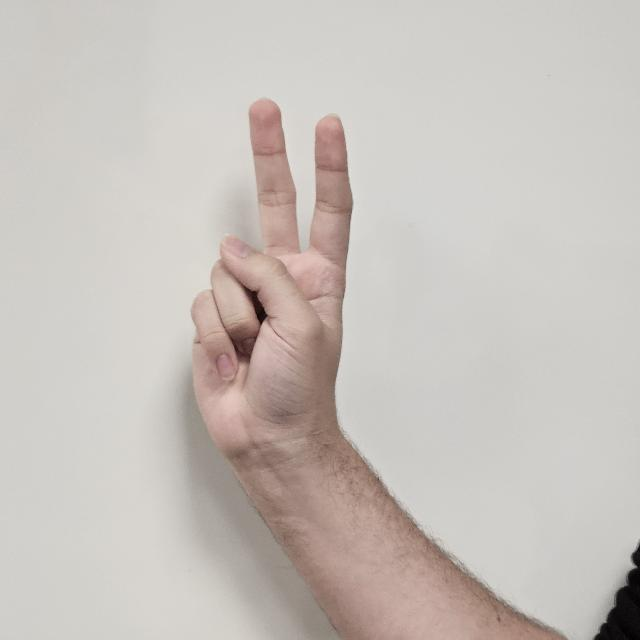Triangulo: (190, 96, 354, 472)
